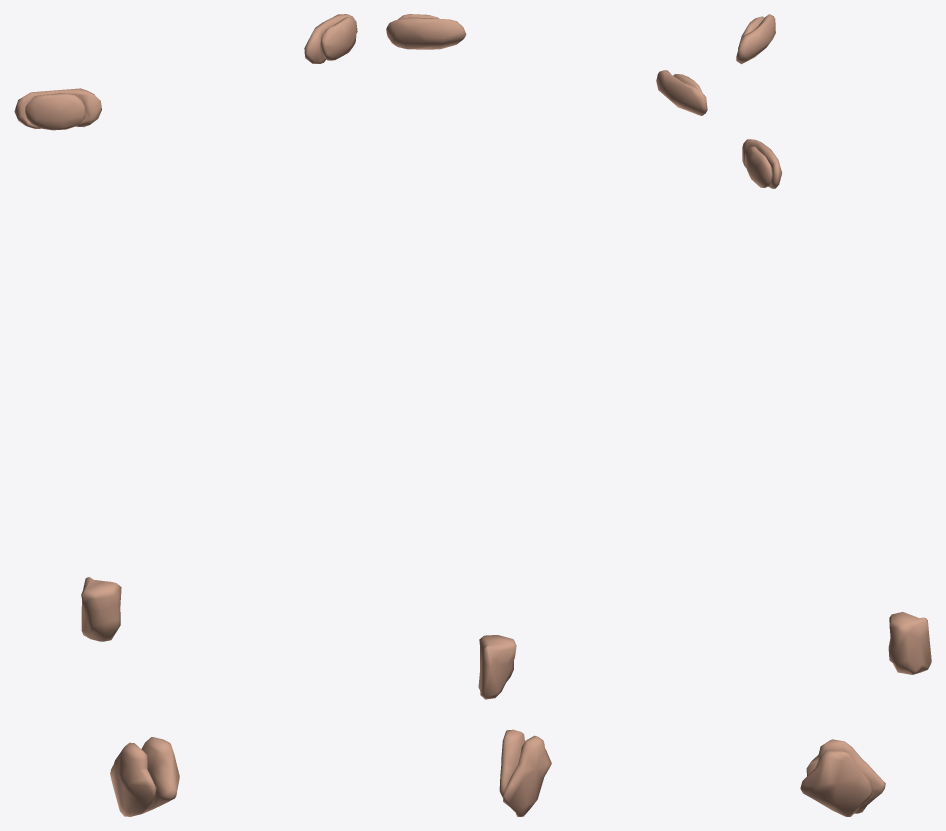
Rendered from icrp_adult_male.reproductive.LOD2.glb.
The picture shows the model from 3 angles, left to right: view 1: azimuth 30°, elevation 25°; view 2: azimuth 150°, elevation 25°; view 3: azimuth 270°, elevation 25°; orthographic projection. The views are drawn at different scales.
Parts seen in each view (by area): view 1: ICRP.ADULT.MALE.REPRODUCTIVE.TESTIS.R, ICRP.ADULT.MALE.REPRODUCTIVE.PROSTATE, ICRP.ADULT.MALE.REPRODUCTIVE.BREAST_GLANDULAR_TISSUE.R, ICRP.ADULT.MALE.REPRODUCTIVE.TESTIS.L, ICRP.ADULT.MALE.REPRODUCTIVE.BREAST_ADIPOSE_TISSUE.R, ICRP.ADULT.MALE.REPRODUCTIVE.BREAST_GLANDULAR_TISSUE.L, ICRP.ADULT.MALE.REPRODUCTIVE.BREAST_ADIPOSE_TISSUE.L; view 2: ICRP.ADULT.MALE.REPRODUCTIVE.TESTIS.R, ICRP.ADULT.MALE.REPRODUCTIVE.BREAST_ADIPOSE_TISSUE.L, ICRP.ADULT.MALE.REPRODUCTIVE.PROSTATE, ICRP.ADULT.MALE.REPRODUCTIVE.BREAST_ADIPOSE_TISSUE.R, ICRP.ADULT.MALE.REPRODUCTIVE.TESTIS.L; view 3: ICRP.ADULT.MALE.REPRODUCTIVE.TESTIS.L, ICRP.ADULT.MALE.REPRODUCTIVE.PROSTATE, ICRP.ADULT.MALE.REPRODUCTIVE.TESTIS.R, ICRP.ADULT.MALE.REPRODUCTIVE.BREAST_ADIPOSE_TISSUE.R, ICRP.ADULT.MALE.REPRODUCTIVE.BREAST_GLANDULAR_TISSUE.L, ICRP.ADULT.MALE.REPRODUCTIVE.BREAST_ADIPOSE_TISSUE.L.
Part boxes in pixels (bbox=[...]): ICRP.ADULT.MALE.REPRODUCTIVE.TESTIS.R: bbox=[110, 742, 156, 816]; ICRP.ADULT.MALE.REPRODUCTIVE.PROSTATE: bbox=[81, 577, 121, 641]; ICRP.ADULT.MALE.REPRODUCTIVE.BREAST_GLANDULAR_TISSUE.R: bbox=[25, 93, 84, 130]; ICRP.ADULT.MALE.REPRODUCTIVE.TESTIS.L: bbox=[141, 737, 179, 813]; ICRP.ADULT.MALE.REPRODUCTIVE.BREAST_ADIPOSE_TISSUE.R: bbox=[14, 88, 101, 128]; ICRP.ADULT.MALE.REPRODUCTIVE.BREAST_GLANDULAR_TISSUE.L: bbox=[320, 17, 356, 60]; ICRP.ADULT.MALE.REPRODUCTIVE.BREAST_ADIPOSE_TISSUE.L: bbox=[304, 14, 357, 63]; ICRP.ADULT.MALE.REPRODUCTIVE.TESTIS.R: bbox=[503, 735, 551, 816]; ICRP.ADULT.MALE.REPRODUCTIVE.BREAST_ADIPOSE_TISSUE.L: bbox=[386, 17, 466, 49]; ICRP.ADULT.MALE.REPRODUCTIVE.PROSTATE: bbox=[478, 635, 516, 699]; ICRP.ADULT.MALE.REPRODUCTIVE.BREAST_ADIPOSE_TISSUE.R: bbox=[656, 70, 707, 115]; ICRP.ADULT.MALE.REPRODUCTIVE.TESTIS.L: bbox=[499, 729, 524, 797]; ICRP.ADULT.MALE.REPRODUCTIVE.TESTIS.L: bbox=[800, 750, 872, 816]; ICRP.ADULT.MALE.REPRODUCTIVE.PROSTATE: bbox=[888, 612, 931, 674]; ICRP.ADULT.MALE.REPRODUCTIVE.TESTIS.R: bbox=[806, 739, 885, 813]; ICRP.ADULT.MALE.REPRODUCTIVE.BREAST_ADIPOSE_TISSUE.R: bbox=[736, 14, 775, 64]; ICRP.ADULT.MALE.REPRODUCTIVE.BREAST_GLANDULAR_TISSUE.L: bbox=[744, 146, 772, 187]; ICRP.ADULT.MALE.REPRODUCTIVE.BREAST_ADIPOSE_TISSUE.L: bbox=[742, 139, 781, 188].
Bounding box in the file's own units: 0.2582 × 0.5679 × 0.1367.
